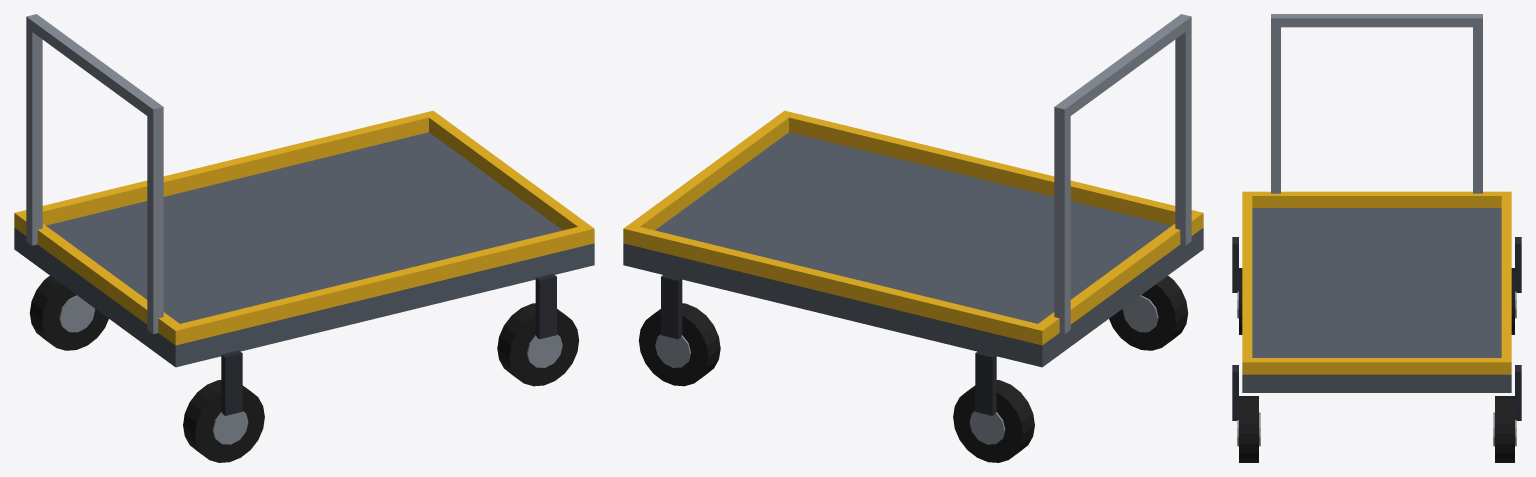
Rendered from cart.glb.
The picture shows the model from 3 angles, left to right: view 1: azimuth 30°, elevation 25°; view 2: azimuth 150°, elevation 25°; view 3: azimuth 270°, elevation 25°; orthographic projection. The views are drawn at different scales.
Parts seen in each view (by area): view 1: bed, wheel, rimF, rimB, rimL, handleL, handleR, rimR, bar, hub, fork; view 2: bed, wheel, rimB, rimF, rimL, handleR, handleL, rimR, bar, hub, fork; view 3: bed, rimL, rimR, wheel, bar, rimF, rimB, handleL, handleR, fork, hub.
Part boxes in pixels (bbox=[...]): bed: bbox=[14, 132, 594, 367]; wheel: bbox=[29, 276, 579, 462]; rimF: bbox=[169, 225, 593, 345]; rimB: bbox=[14, 111, 438, 231]; rimL: bbox=[425, 111, 594, 245]; handleL: bbox=[147, 111, 163, 334]; handleR: bbox=[26, 22, 42, 245]; rimR: bbox=[14, 213, 185, 345]; bar: bbox=[26, 14, 163, 120]; hub: bbox=[59, 295, 562, 444]; fork: bbox=[221, 274, 556, 415]; bed: bbox=[623, 132, 1203, 367]; wheel: bbox=[638, 276, 1188, 462]; rimB: bbox=[623, 225, 1047, 345]; rimF: bbox=[779, 110, 1203, 231]; rimL: bbox=[623, 111, 793, 245]; handleR: bbox=[1054, 112, 1070, 334]; handleL: bbox=[1175, 22, 1191, 245]; rimR: bbox=[1032, 213, 1202, 345]; bar: bbox=[1054, 14, 1191, 119]; hub: bbox=[655, 295, 1158, 444]; fork: bbox=[661, 274, 996, 415]; bed: bbox=[1242, 208, 1511, 392]; rimL: bbox=[1242, 358, 1511, 374]; rimR: bbox=[1243, 191, 1511, 207]; wheel: bbox=[1239, 268, 1514, 462]; bar: bbox=[1271, 14, 1482, 27]; rimF: bbox=[1242, 191, 1252, 374]; rimB: bbox=[1501, 191, 1511, 374]; handleL: bbox=[1271, 23, 1280, 193]; handleR: bbox=[1473, 23, 1482, 193]; fork: bbox=[1232, 237, 1521, 420]; hub: bbox=[1237, 291, 1516, 446].
Size of the model in its own units: 1.22 by 0.965 by 0.86.
